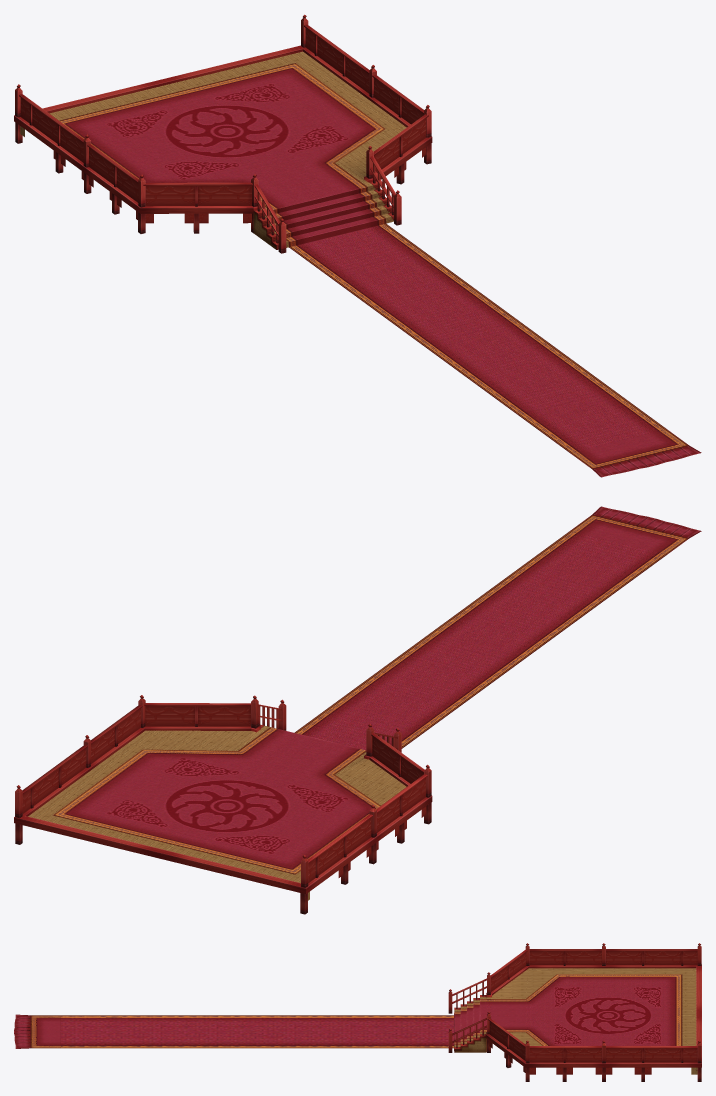
File: a_SWFloor01a.glb
3 renders of one model, top to bottom at view 1: azimuth 30°, elevation 25°; view 2: azimuth 150°, elevation 25°; view 3: azimuth 270°, elevation 25°, orthographic. The views are drawn at different scales.
Visible parts, largest first — view 1: a_SWFloor01a; view 2: a_SWFloor01a; view 3: a_SWFloor01a.
Boxes of the visible parts, x1,y1,x2,y2 form: a_SWFloor01a: (14, 14, 701, 477); a_SWFloor01a: (14, 506, 701, 914); a_SWFloor01a: (14, 943, 701, 1081).
Bounding box in the file's own units: 12 × 2.29 × 35.07.
Materials: 5 (5 with a texture image).
